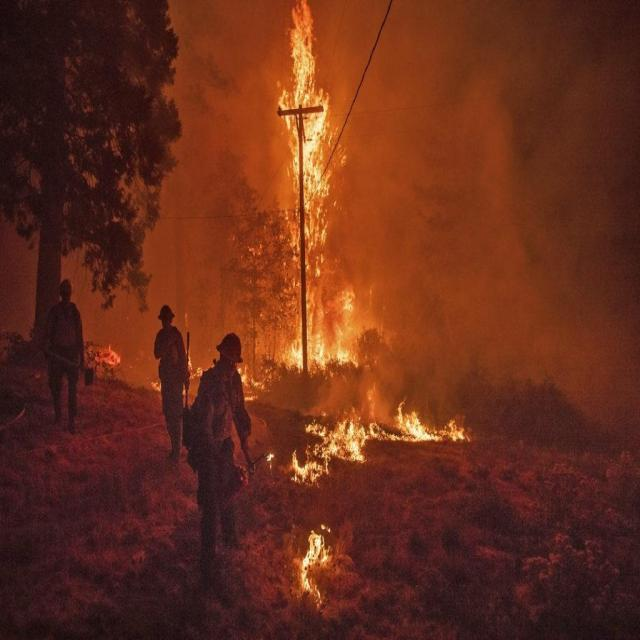Fire: (235, 2, 472, 487), (300, 522, 332, 610), (94, 346, 120, 364), (188, 348, 202, 381), (150, 377, 162, 393)
Smoke: (60, 1, 640, 427)
